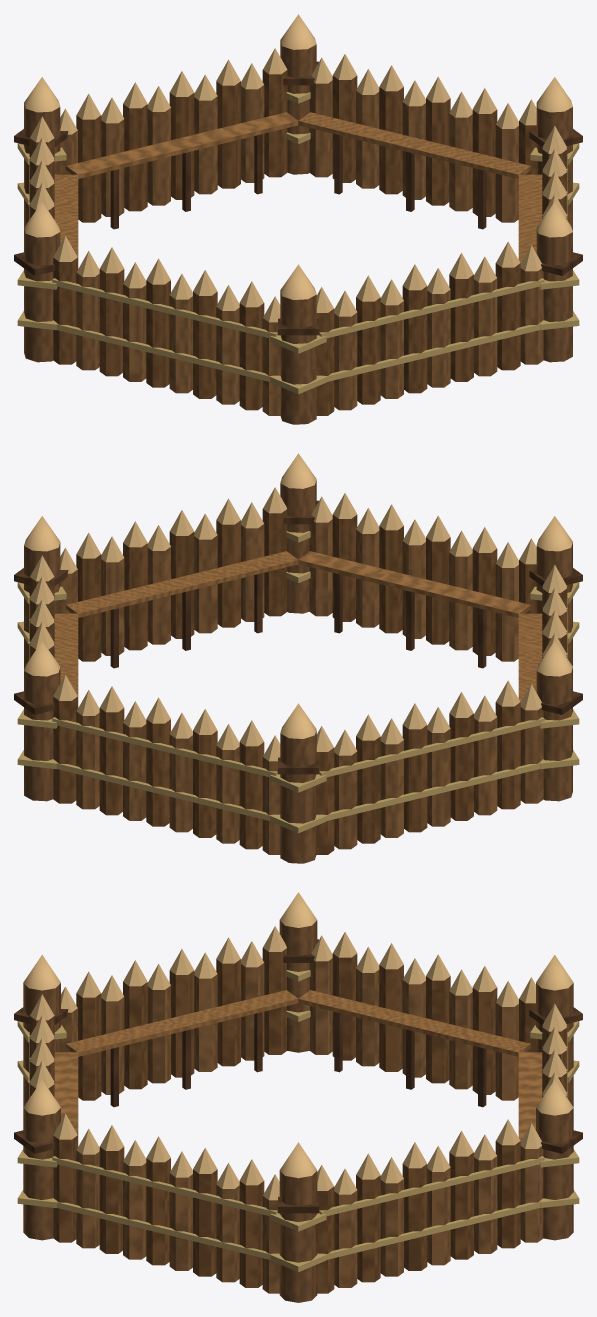
Rendered from fort_l2.glb.
3 views of the same model, one above another, from view 1: azimuth 30°, elevation 25°; view 2: azimuth 150°, elevation 25°; view 3: azimuth 270°, elevation 25° (orthographic).
Parts seen in each view (by area): view 1: fort_l2; view 2: fort_l2; view 3: fort_l2.
Boxes of the visible parts, x1=… form: fort_l2: x1=14, y1=14, x2=582, y2=424; fort_l2: x1=14, y1=453, x2=582, y2=863; fort_l2: x1=14, y1=892, x2=582, y2=1302.
Size of the model in its own units: 1.88 by 0.49 by 1.65.
Materials: 1 (1 with a texture image).
